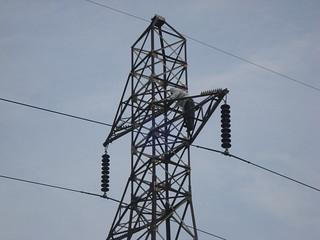power_tower: (92, 12, 236, 240)
